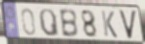0: (21, 7, 37, 37)
8: (80, 9, 98, 39)
B: (58, 8, 80, 39)
K: (100, 10, 119, 40)
Q: (38, 7, 61, 38)
V: (118, 9, 138, 41)
